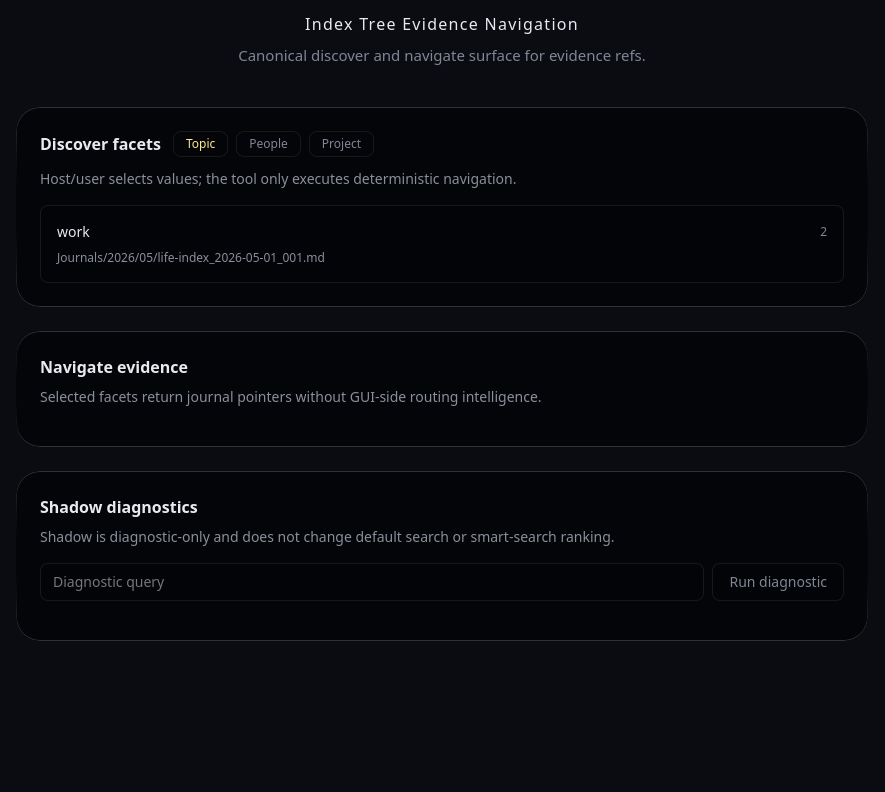
Test case: IndexTreeDiagnostics canonical surface › shows shadow as diagnostic-only and preserves search ranking guardrails
Type "alpha beta" into the field labelled "Diagnostic query" at (372, 582), box [40,562,704,600]
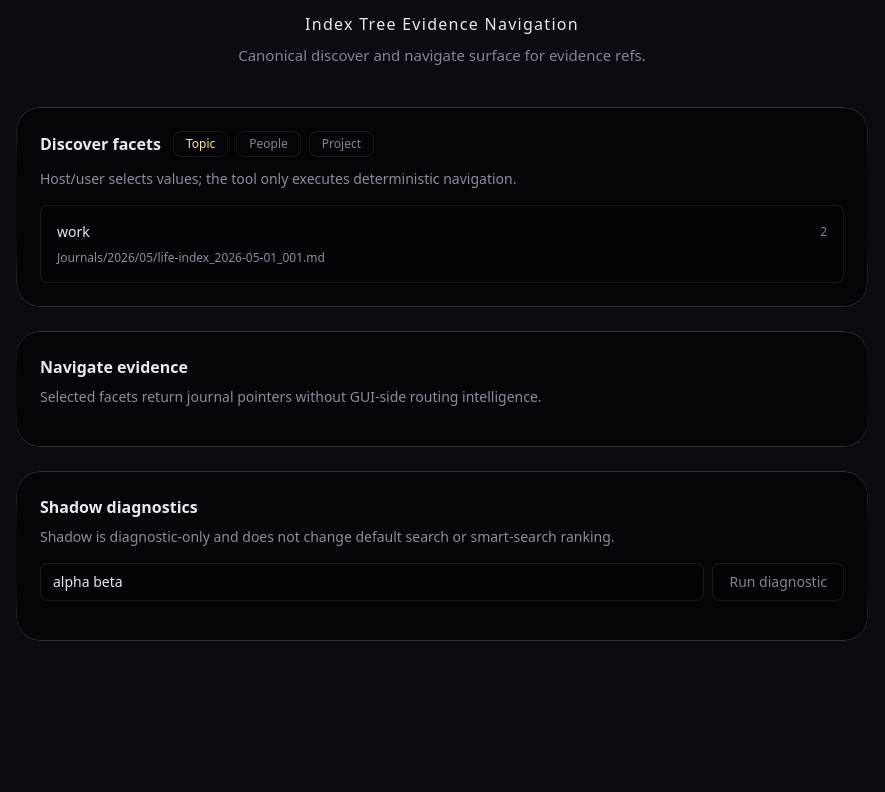
Click the button "Run diagnostic" at (778, 582), box [712,562,844,600]
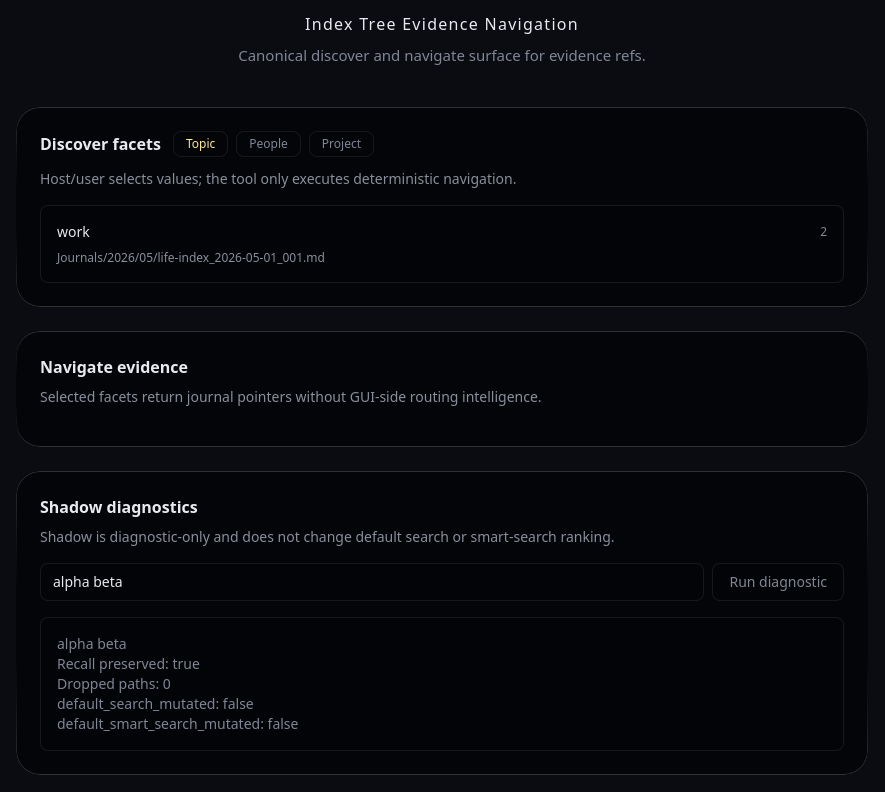
Expected: the element with test id "index-tree-shadow-diagnostic" shows "alpha beta", [57,634,127,652]
Expected: the element with test id "index-tree-shadow-diagnostic" shows "Recall preserved", [57,654,165,672]
Expected: the element with test id "index-tree-shadow-diagnostic" shows "true", [172,654,200,672]
